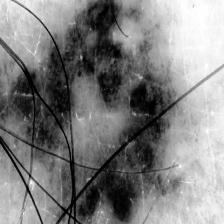Benign Marking or Mole: (0, 0, 188, 217)
